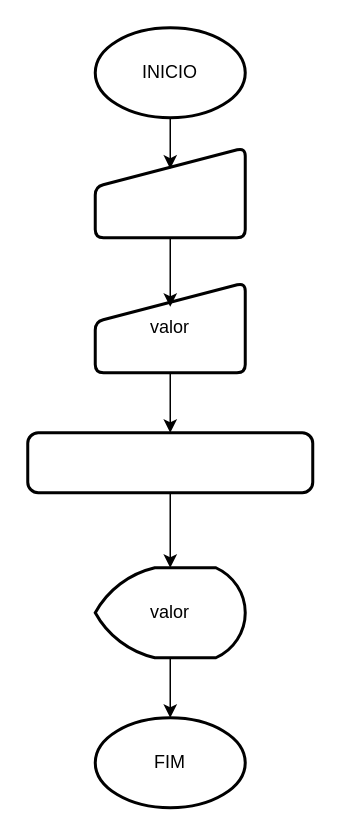
The diagram is 339 pixels wide and 834 high, and some of its shapes have lost their labels. Here are the shapes that lost their labels. From the top down, the centre of each, then its label:
At point (169, 192): "cotacao".
At point (170, 462): "valor = valor / cotacao".
